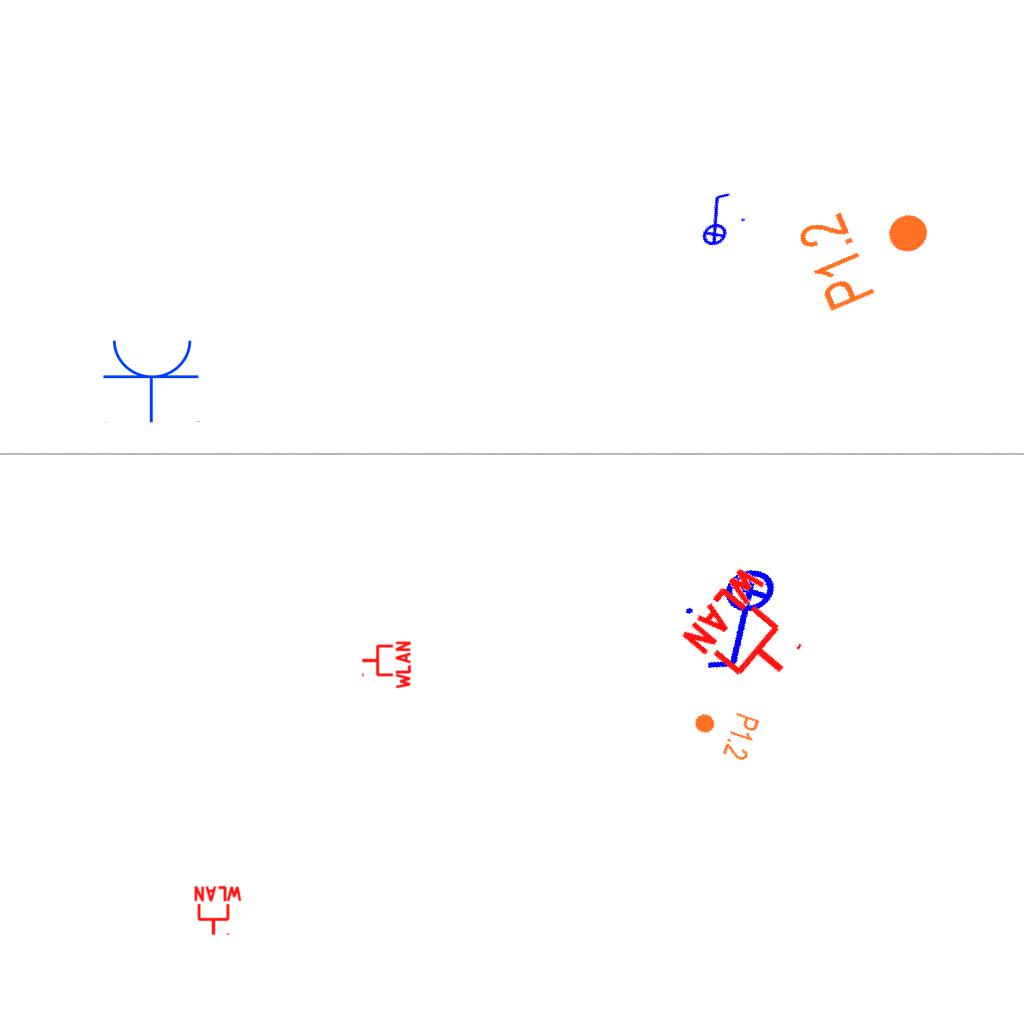Ausschalter_beleuchtet: (673, 557, 811, 685), (680, 184, 752, 254)
Downlight_LED_Einbauleuchten_Flur: (792, 180, 947, 316), (686, 698, 762, 764)
Schukosteckdose_einfach: (102, 336, 202, 423)
WLAN: (676, 558, 825, 706), (360, 639, 412, 691), (192, 885, 244, 937)
